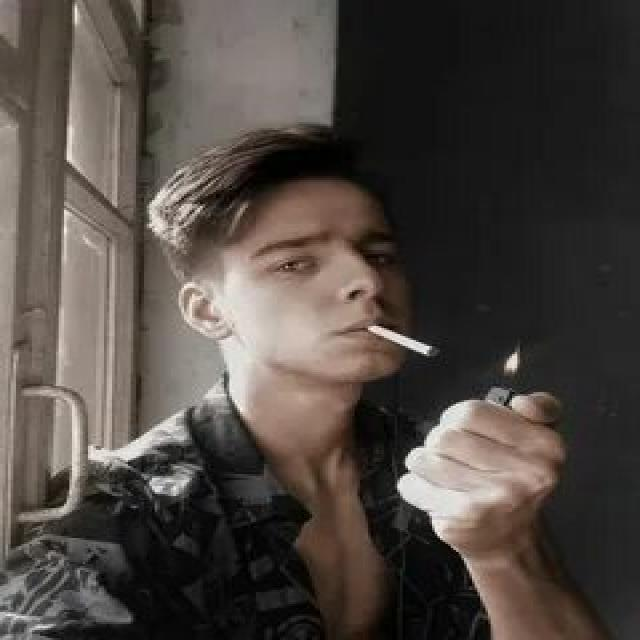cigarette: (366, 318, 446, 364)
